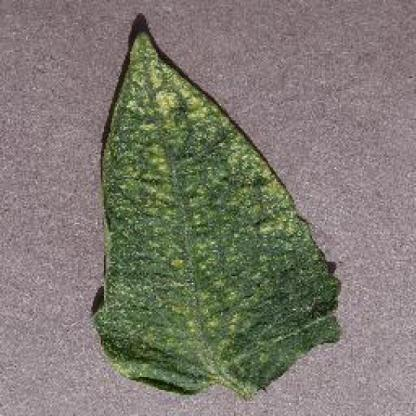Strawberry_Blossom_Blight: (243, 259, 297, 307), (149, 78, 205, 122), (110, 251, 151, 308), (184, 142, 229, 178)
